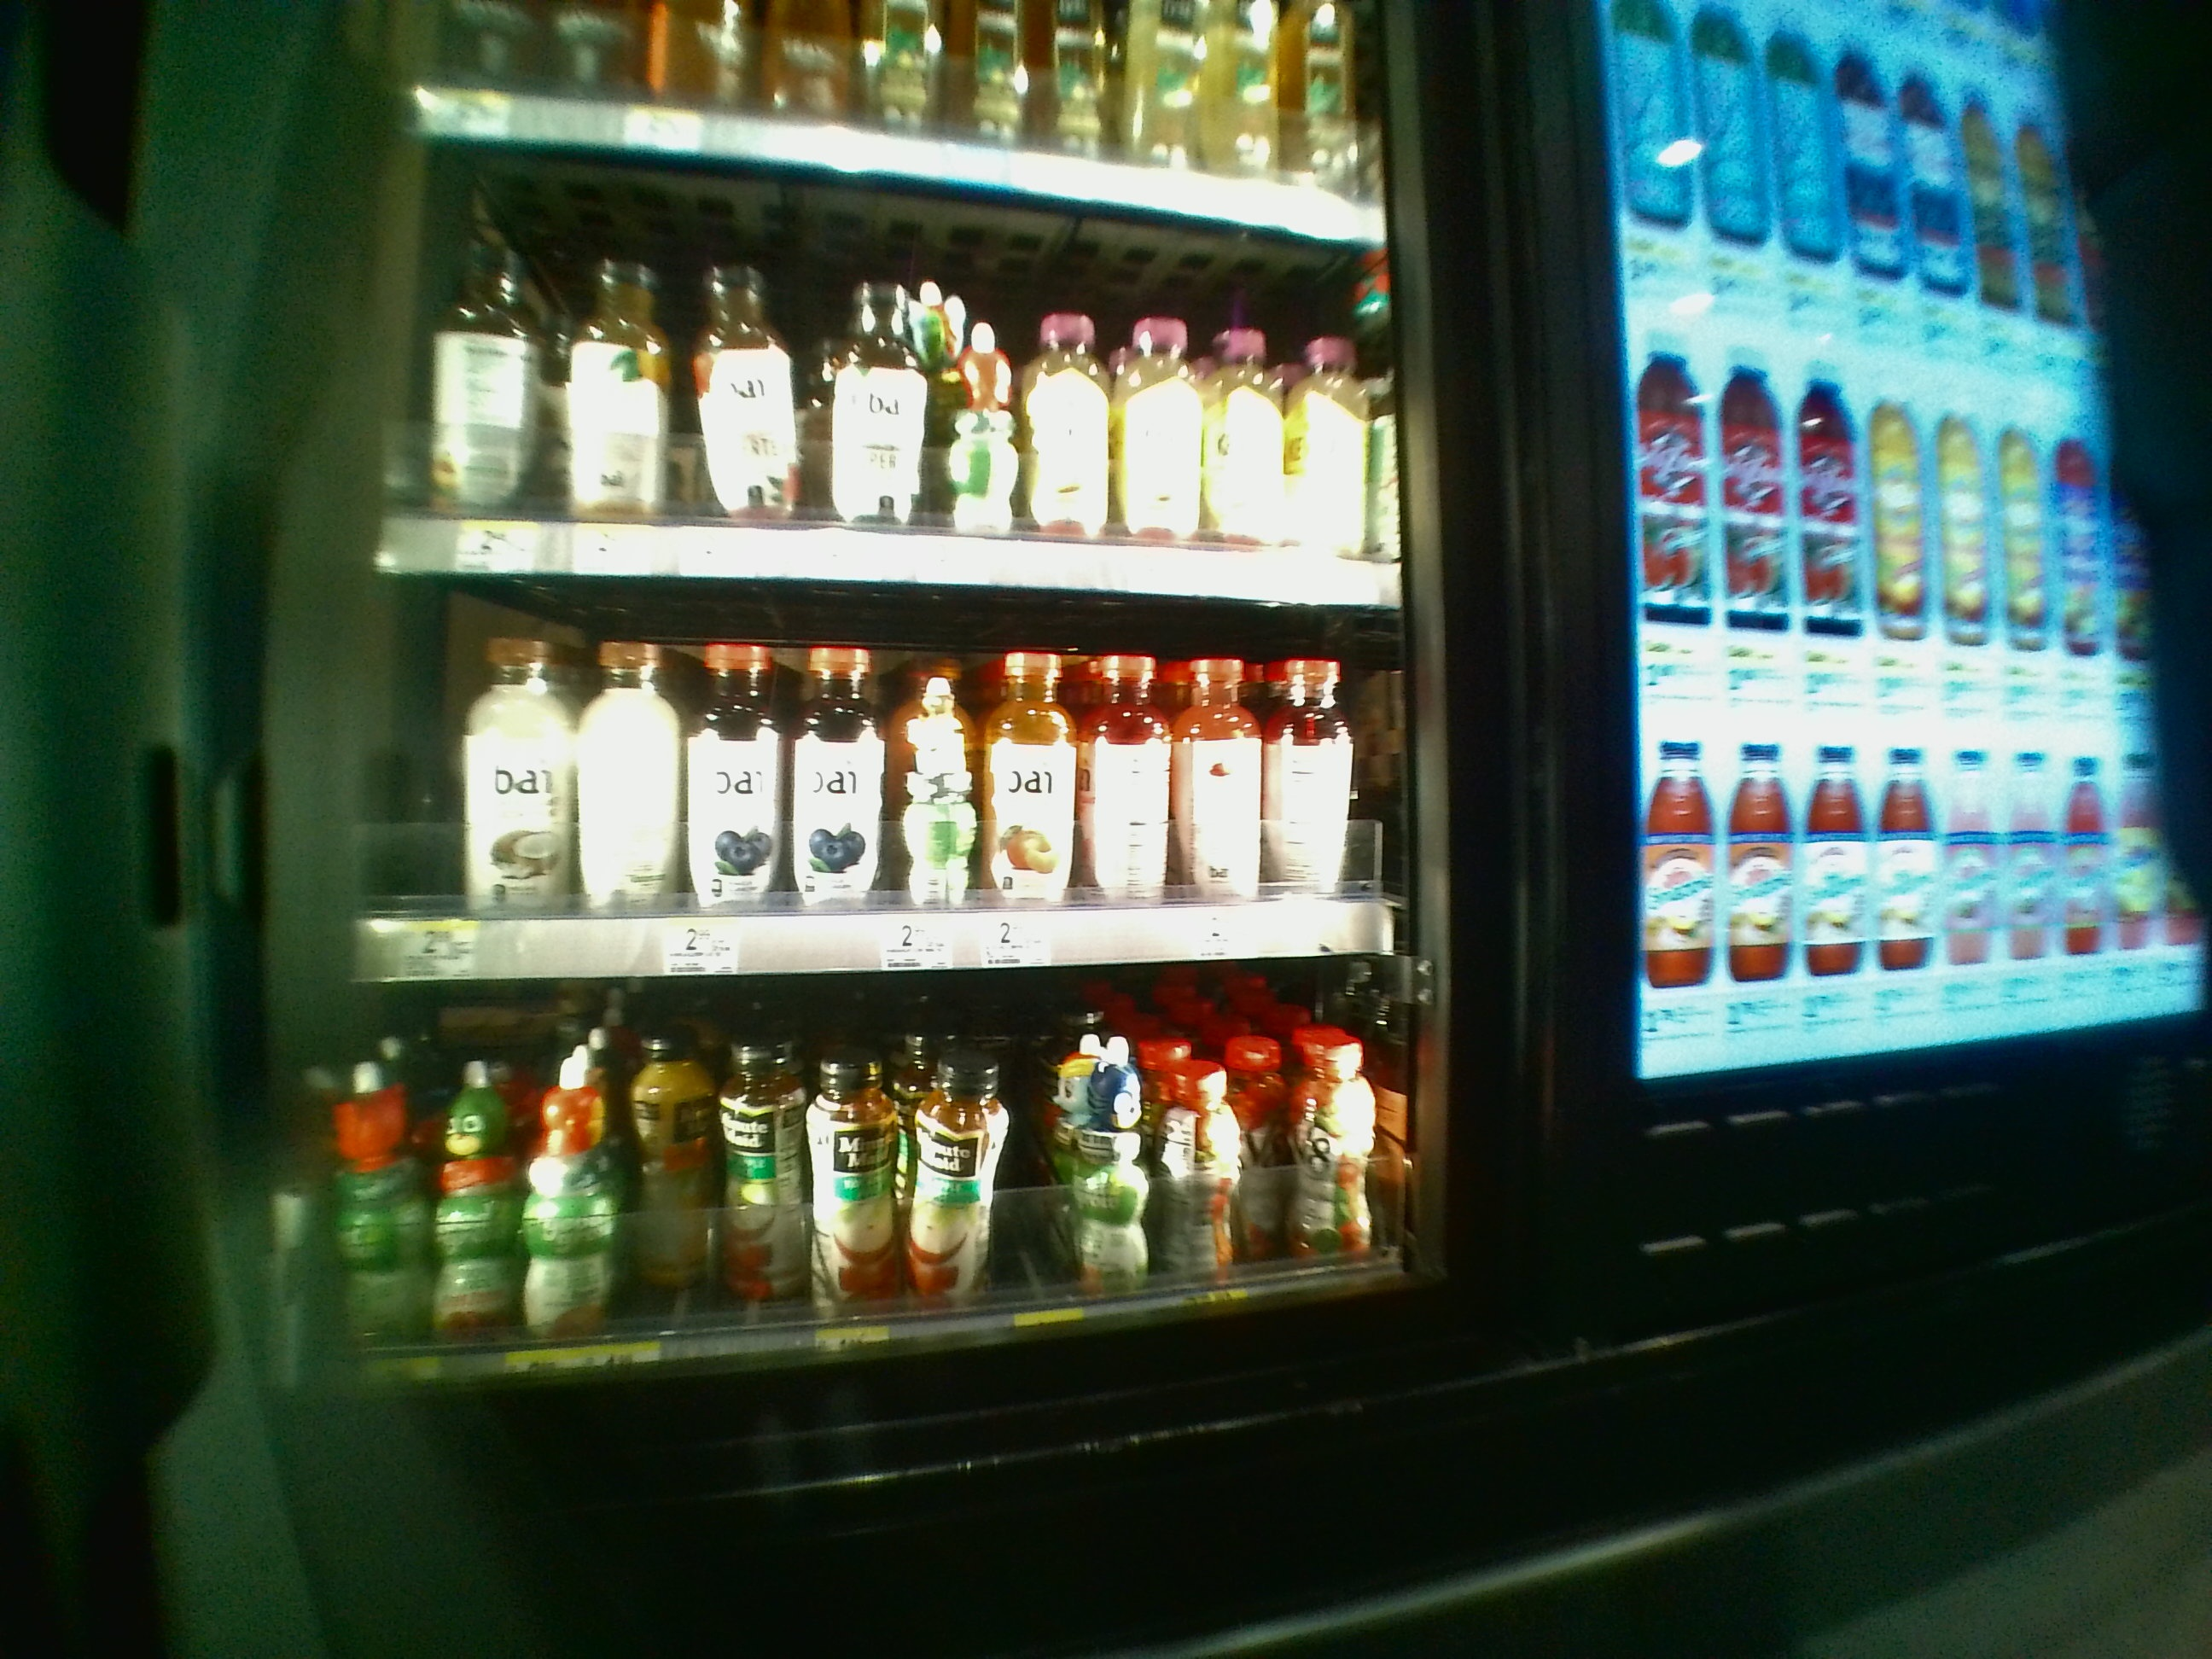shelf: (376, 139, 1406, 579), (341, 993, 1430, 1399), (359, 586, 1416, 974)
